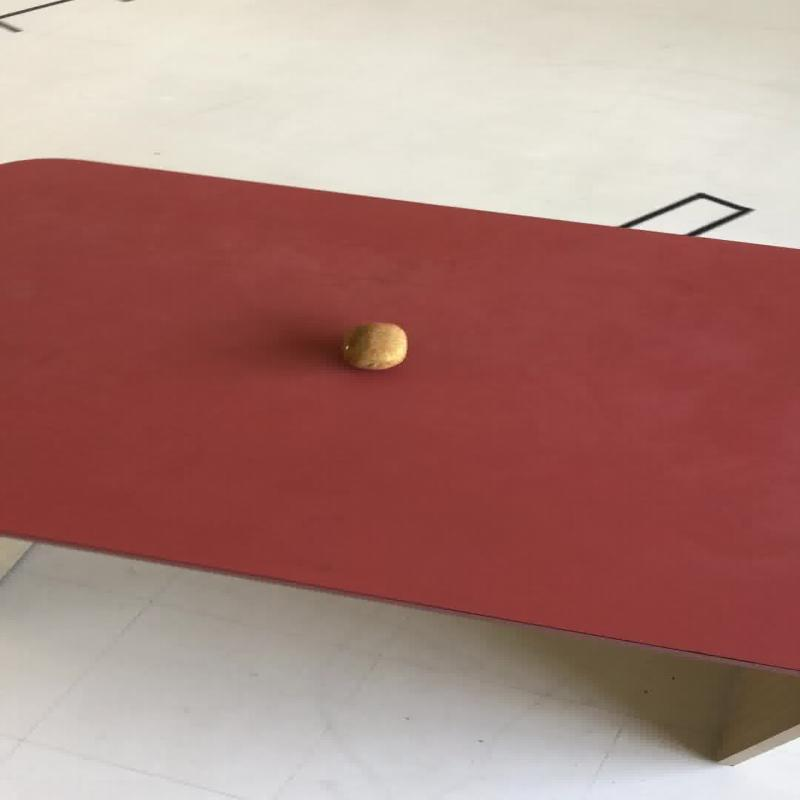kiwi: (340, 321, 408, 370)
